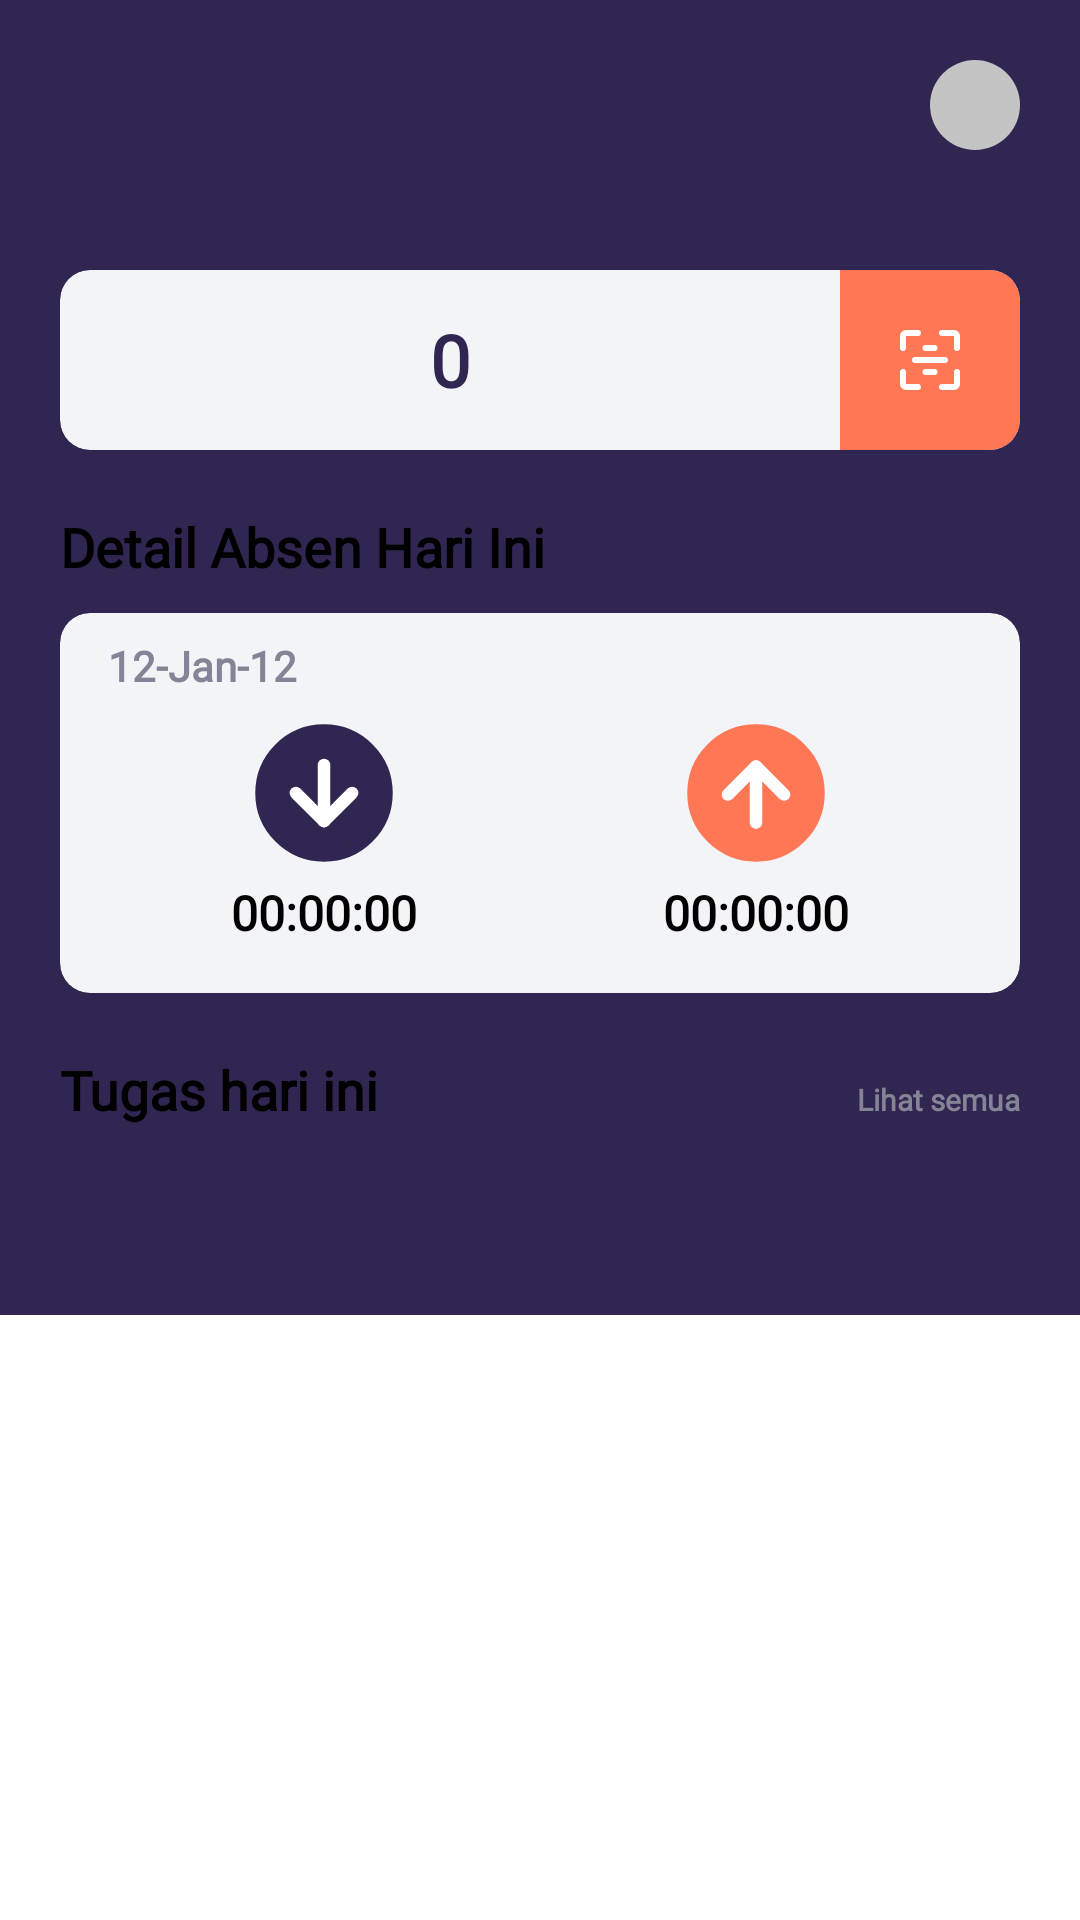

Screen size 1080 × 1920. Icon name, then its box in pixels as bbox=(x1, y1, x2, y2):
arrow circle down: bbox=(255, 724, 393, 862)
arrow circle up: bbox=(687, 724, 825, 862)
scanning: bbox=(840, 270, 1020, 450)
